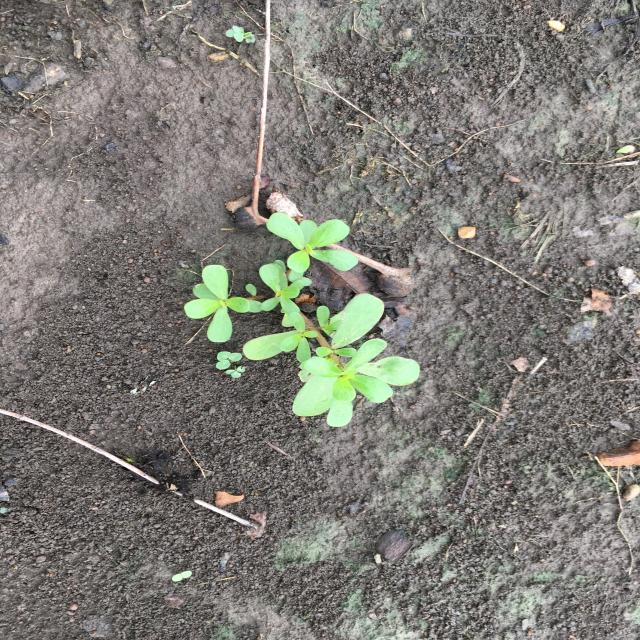Purslane: (184, 212, 420, 428)
